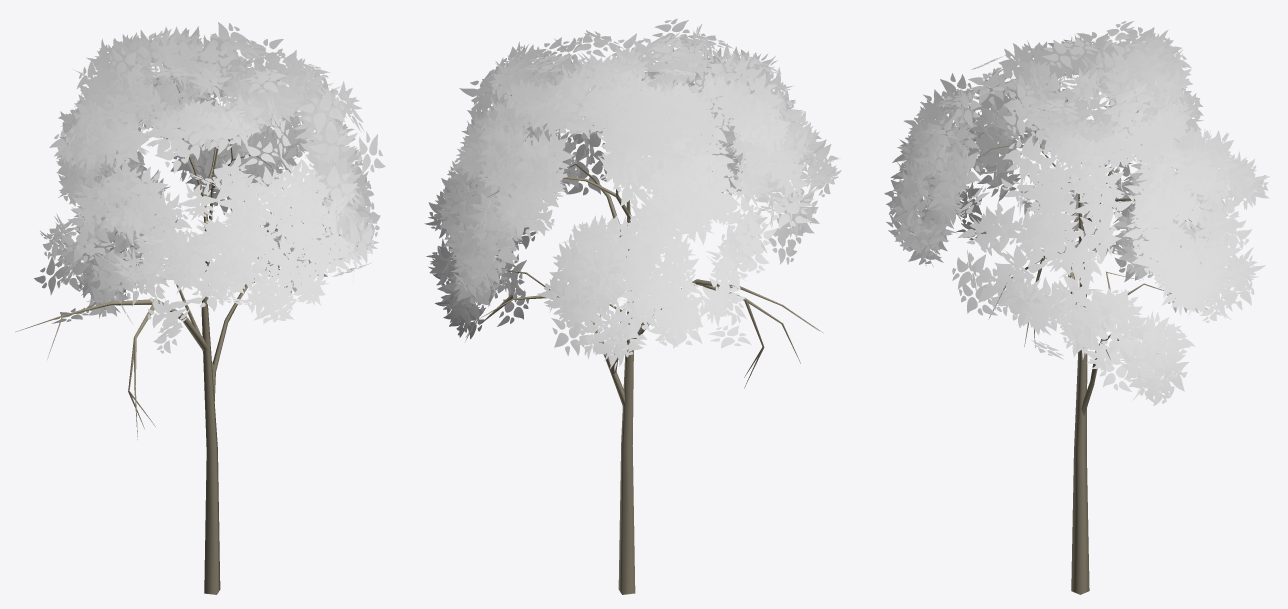
File: SadTree_LOD0.fbx
The picture shows the model from 3 angles, left to right: view 1: azimuth 30°, elevation 25°; view 2: azimuth 150°, elevation 25°; view 3: azimuth 270°, elevation 25°; orthographic projection. The views are drawn at different scales.
Parts seen in each view (by area): view 1: SadLeaf_LOD0, SadTrunk_LOD0; view 2: SadLeaf_LOD0, SadTrunk_LOD0; view 3: SadLeaf_LOD0, SadTrunk_LOD0.
Boxes of the visible parts, bbox=[...] form: SadLeaf_LOD0: bbox=[34, 22, 385, 353]; SadTrunk_LOD0: bbox=[15, 76, 369, 594]; SadLeaf_LOD0: bbox=[424, 18, 841, 371]; SadTrunk_LOD0: bbox=[479, 67, 822, 594]; SadLeaf_LOD0: bbox=[884, 21, 1269, 406]; SadTrunk_LOD0: bbox=[976, 93, 1201, 594].
Size of the model in its own units: 897 by 1296 by 863.
